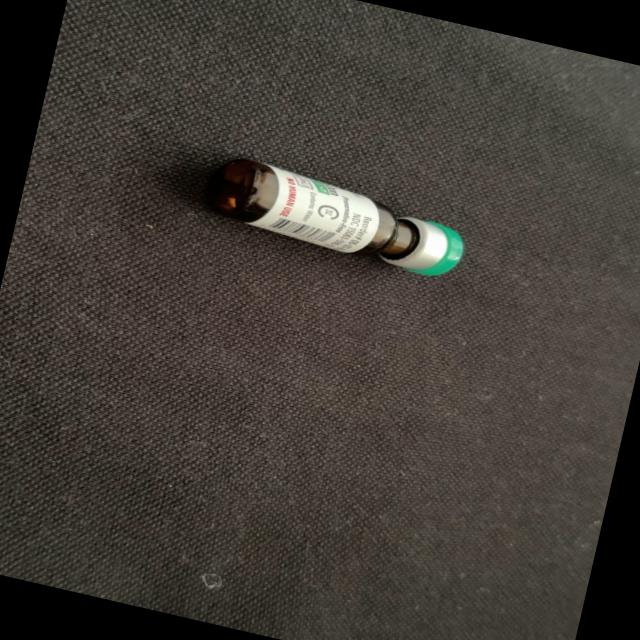midazolm: (204, 154, 466, 280)
